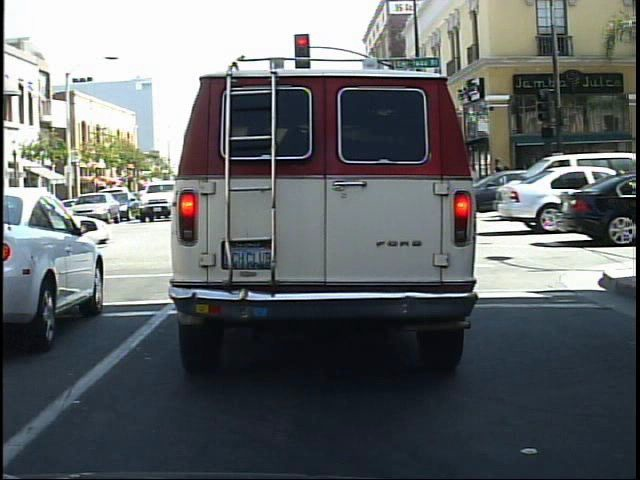person: (536, 154, 564, 216), (516, 157, 541, 212), (488, 156, 507, 214), (499, 163, 518, 212)
